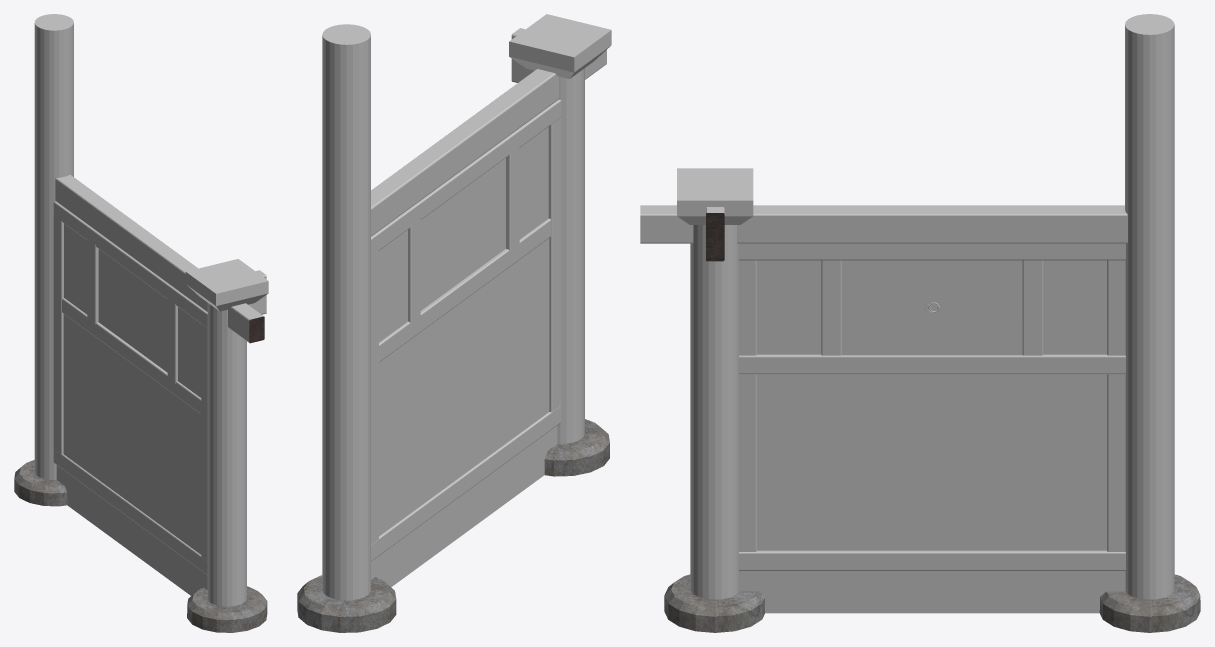
The model's file is SM_Building_Wall_21.FBX.
3 renders of one model, left to right at view 1: azimuth 30°, elevation 25°; view 2: azimuth 150°, elevation 25°; view 3: azimuth 270°, elevation 25°, orthographic. The views are drawn at different scales.
Visible parts, largest first — view 1: SM_Building_Wall_21; view 2: SM_Building_Wall_21; view 3: SM_Building_Wall_21.
Boxes of the visible parts, x1=… form: SM_Building_Wall_21: x1=14, y1=14, x2=268, y2=632; SM_Building_Wall_21: x1=297, y1=14, x2=611, y2=632; SM_Building_Wall_21: x1=640, y1=14, x2=1200, y2=632.
Size of the model in its own units: 115 by 724 by 626.
